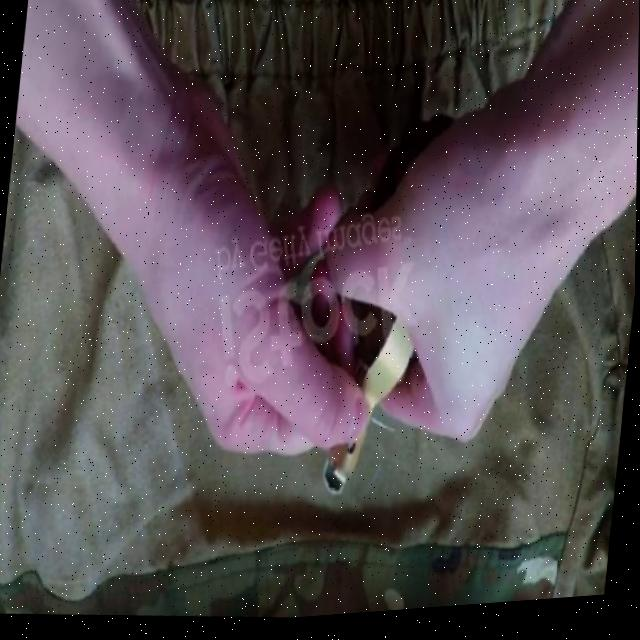grenade: (259, 100, 525, 519)
